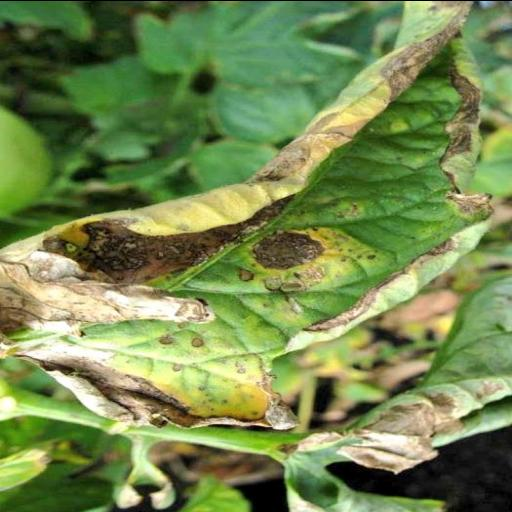disease_tomato: (0, 0, 491, 432)
